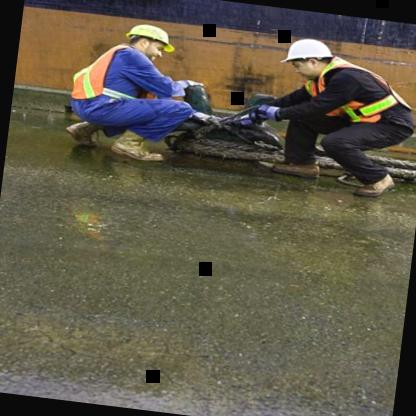helmet: (274, 29, 343, 89), (121, 14, 186, 62)
